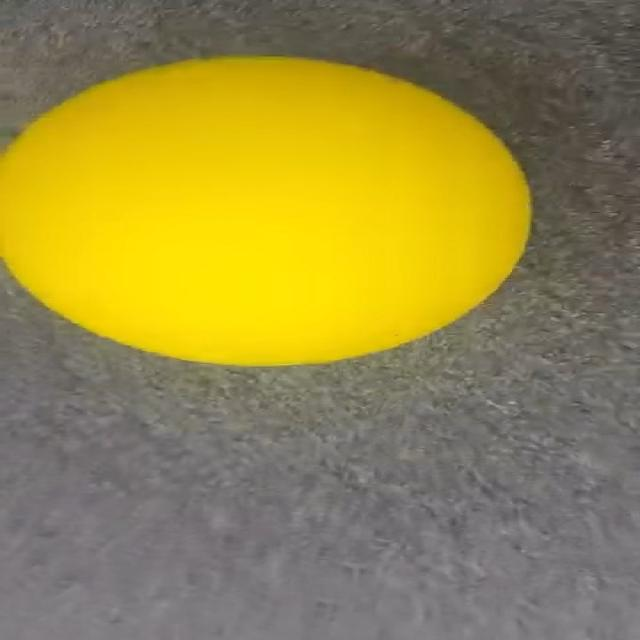Fuels: (2, 57, 528, 365)
